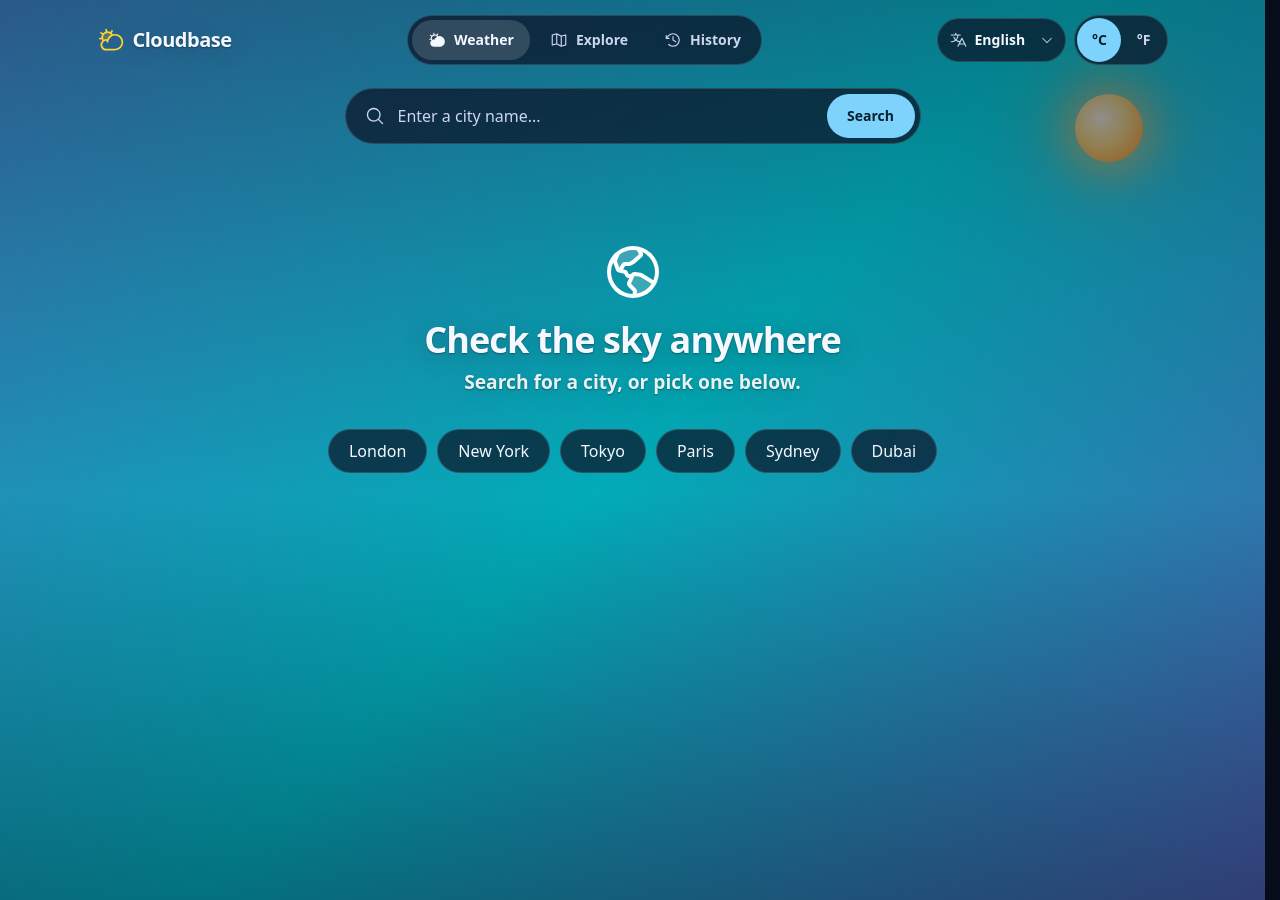
Scenario: failures › shows an alert with a retry button that fetches again
Type "Tokyo" into the dropdown labelled "Enter a city name..." at (632, 116), box 344,88 -> 920,144
Then press Enter
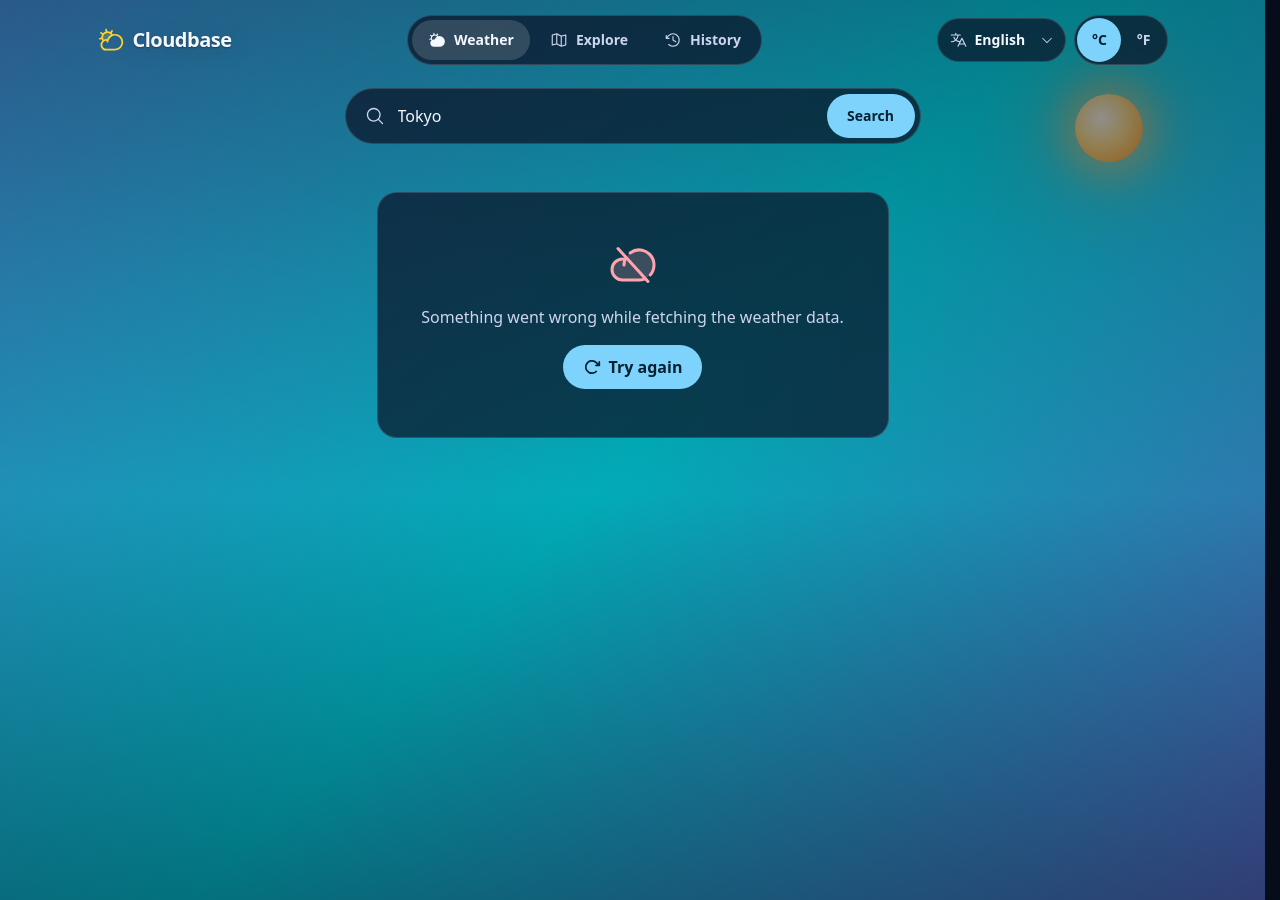
Expected: the message shows "Something went wrong while fetching the weather data.", 421,306 -> 844,328
Click the button "Try again" at (632, 367), box 563,345 -> 702,389
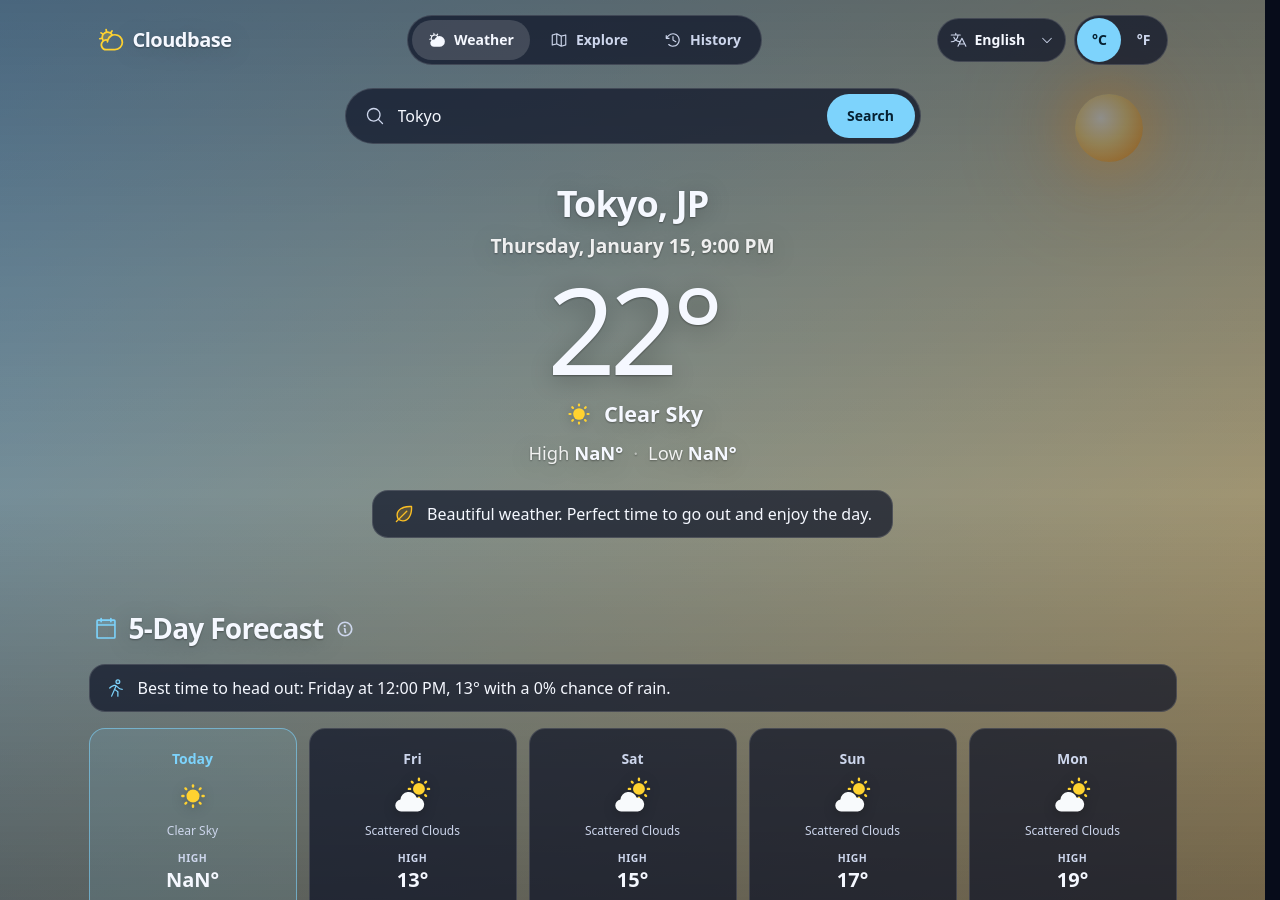
Expected: the heading "Tokyo, JP" is shown, 557,184 -> 708,224
Expected: the message "Something went wrong while fetching the weather data. Try again" is gone
